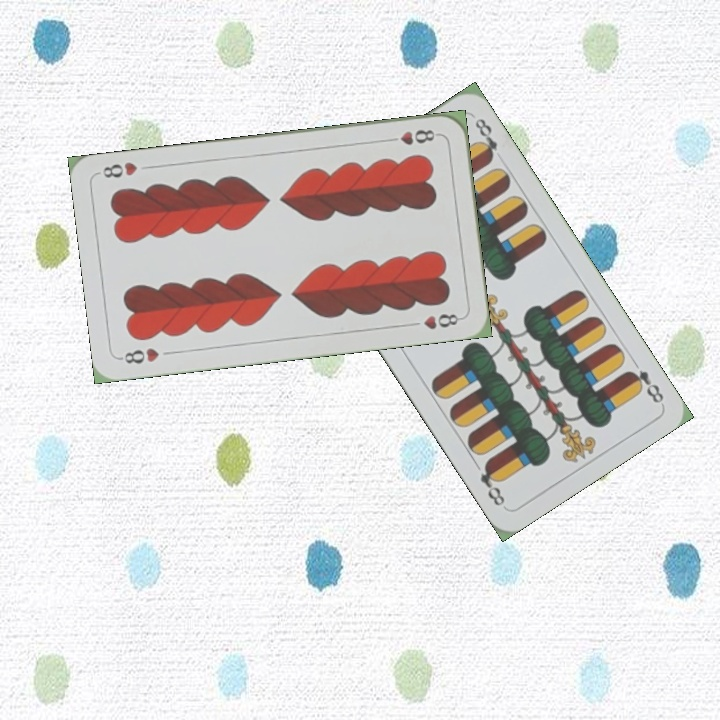E8: (622, 365, 667, 406)
H8: (382, 126, 442, 148), (116, 343, 162, 366)
